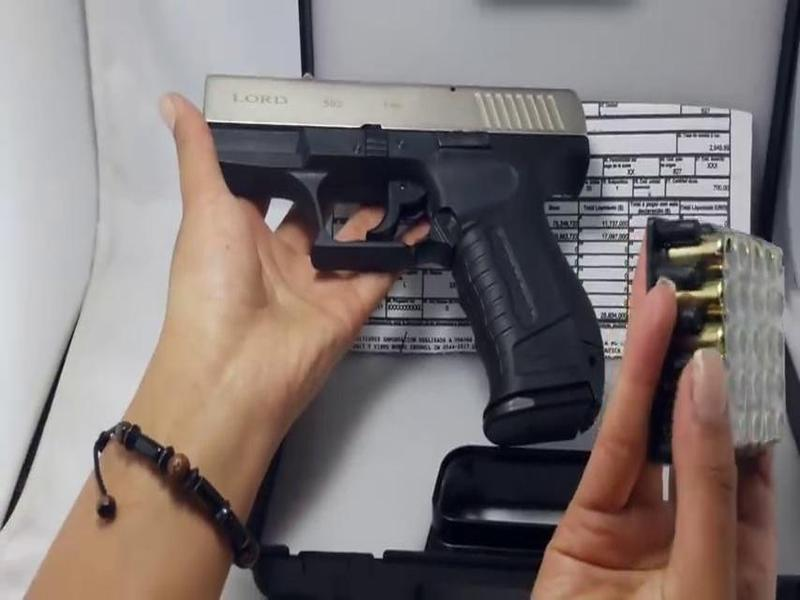Pistola: (199, 56, 606, 436)
